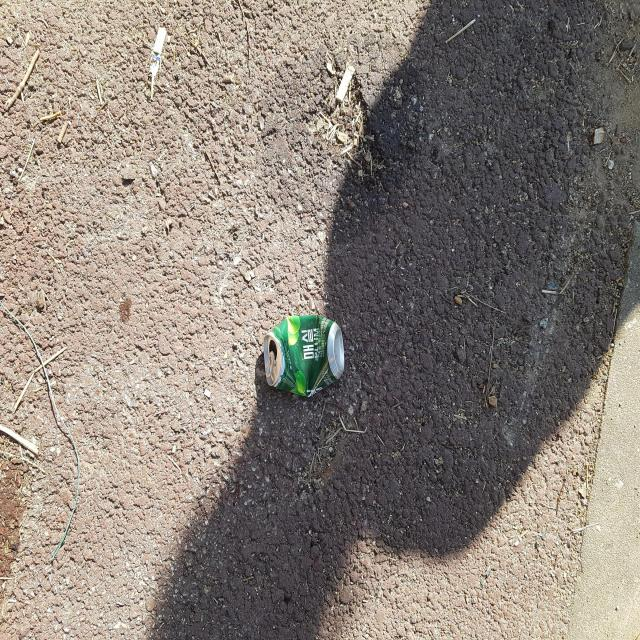can: (263, 315, 345, 397)
